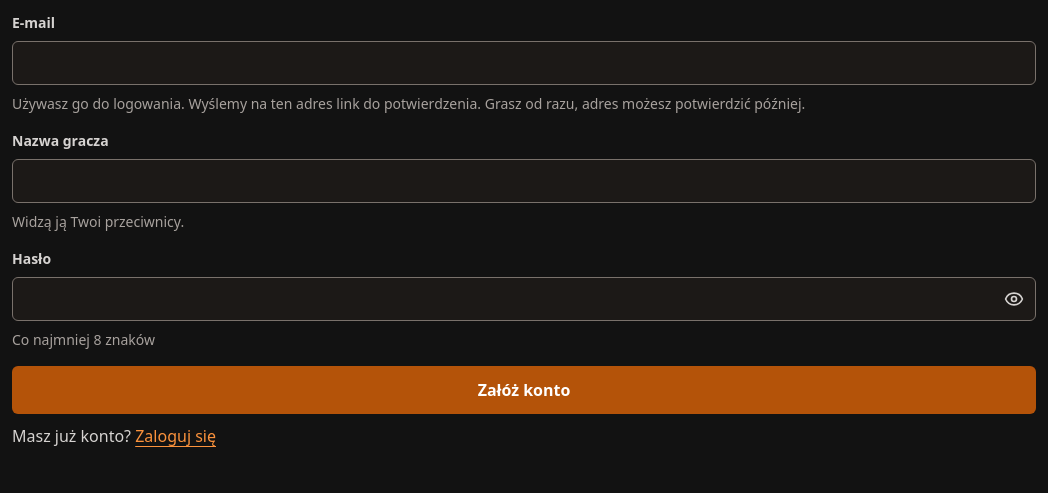
it: RegisterForm › shows a taken name at its field, keeps e-mail and name and clears the password
Type "ala@example.com" into the field labelled "E-mail" at (524, 63), box x1=12 y1=41 x2=1036 y2=85
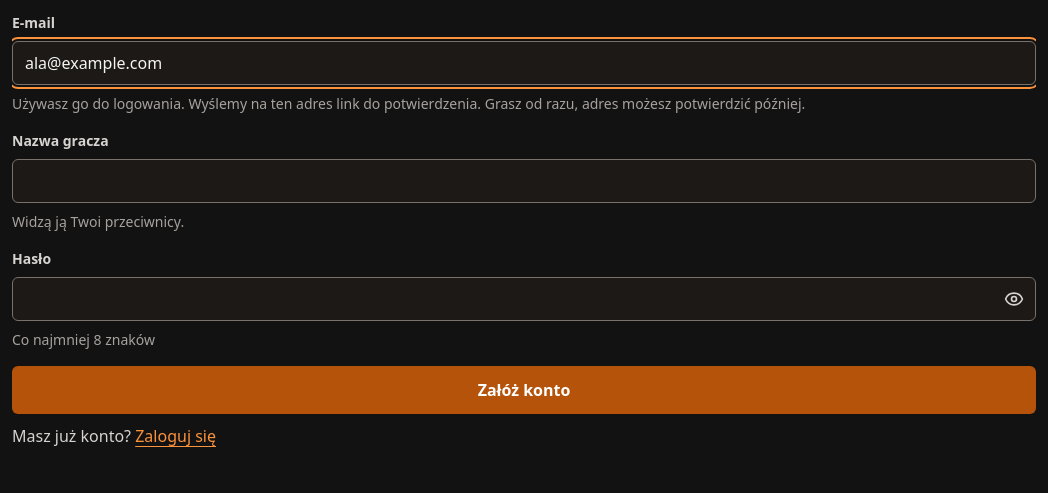
Type "Ala_7" into the field labelled "Nazwa gracza" at (524, 181), box x1=12 y1=159 x2=1036 y2=203
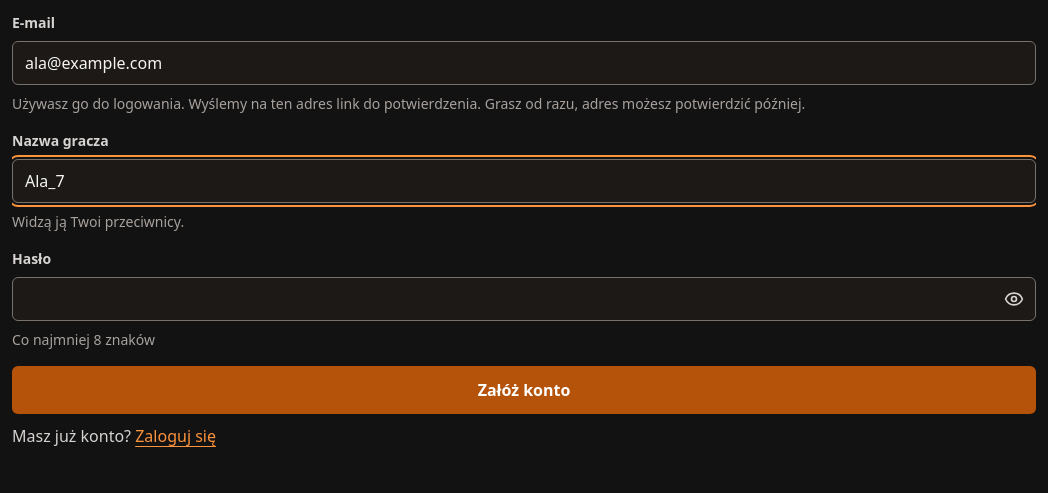
Type "secret123" into the password field labelled "Hasło" at (524, 299), box x1=12 y1=277 x2=1036 y2=321
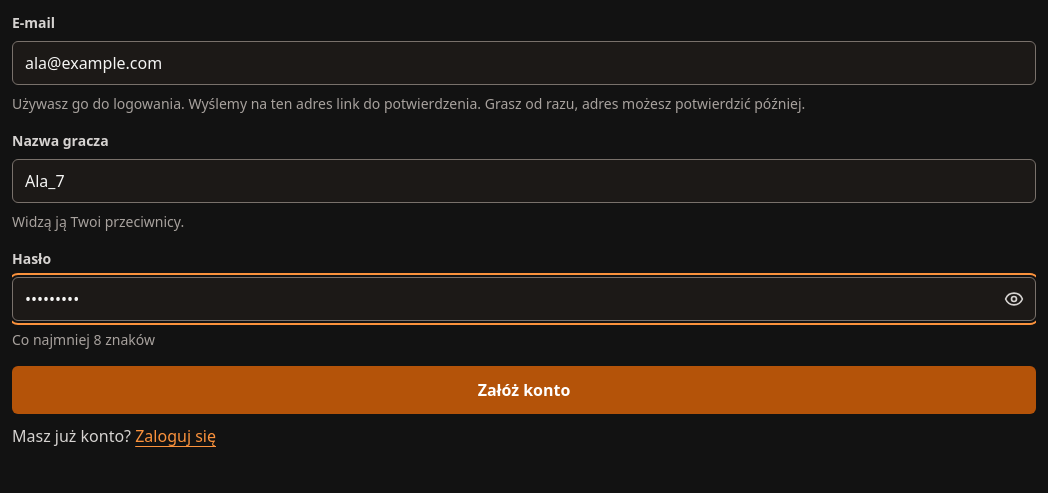
Click the button "Załóż konto" at (524, 390), box x1=12 y1=366 x2=1036 y2=414
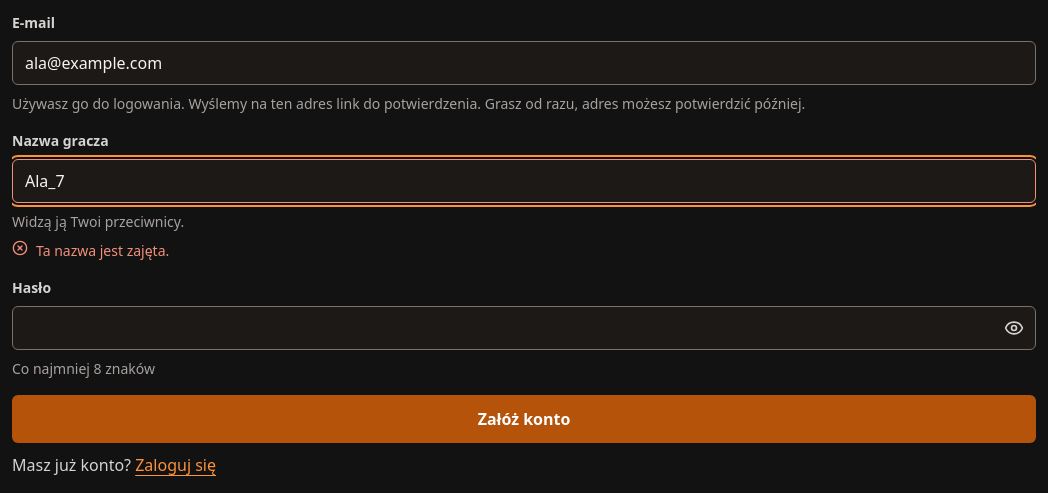
Check: the button "Załóż konto" is enabled, box x1=12 y1=395 x2=1036 y2=443
Check: the text "Ta nazwa jest zajęta." is shown, box x1=36 y1=240 x2=169 y2=261
Check: the password field labelled "Hasło" is empty, box x1=12 y1=306 x2=1036 y2=350
